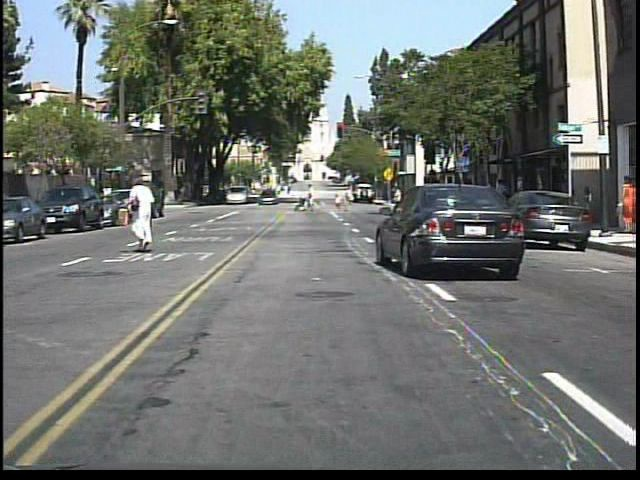person: (122, 171, 166, 262), (618, 166, 637, 237), (493, 171, 514, 221), (387, 181, 405, 209), (307, 182, 320, 212)
